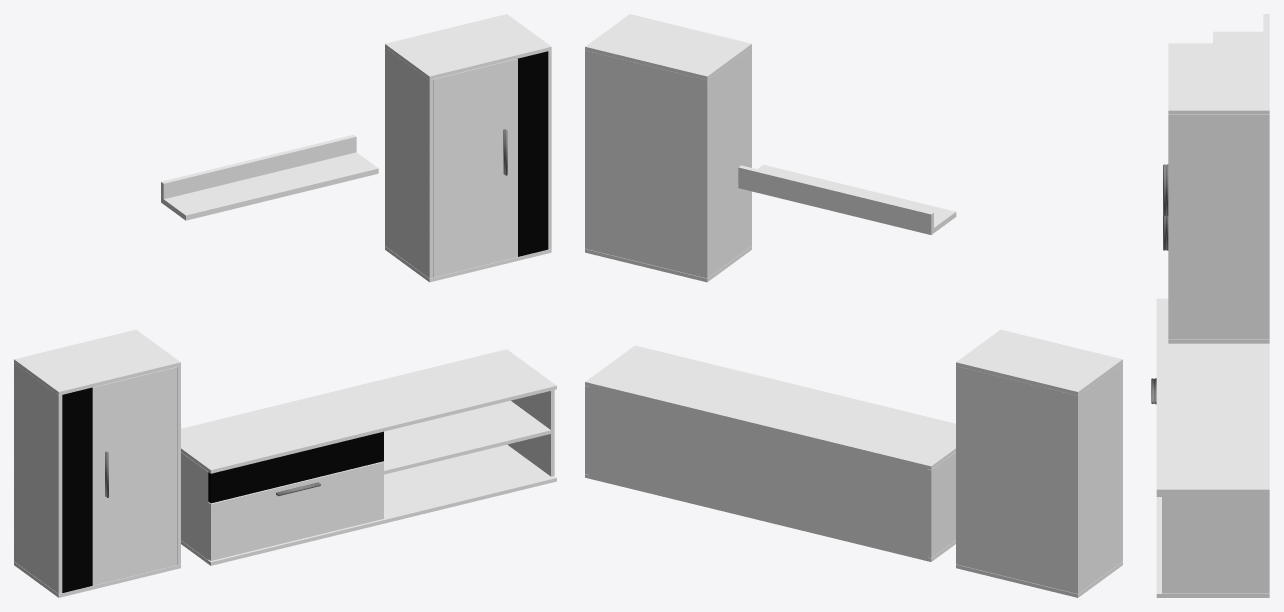
File: kondela_kevin_tv_cabinet_set.glb
3 views of the same model, side by side, from view 1: azimuth 30°, elevation 25°; view 2: azimuth 150°, elevation 25°; view 3: azimuth 270°, elevation 25° (orthographic). The views are drawn at different scales.
Visible parts, largest first — view 1: cabinet_center_Baked_2, cabinet_01_Baked_0, cabinet_02_Baked_1, shelf_Baked_3; view 2: cabinet_center_Baked_2, cabinet_01_Baked_0, cabinet_02_Baked_1, shelf_Baked_3; view 3: cabinet_02_Baked_1, cabinet_center_Baked_2, shelf_Baked_3, cabinet_01_Baked_0.
Boxes of the visible parts, x1,y1,x2,y2 form: cabinet_center_Baked_2: (181, 349, 556, 565); cabinet_01_Baked_0: (14, 329, 180, 597); cabinet_02_Baked_1: (385, 14, 551, 282); shelf_Baked_3: (161, 134, 378, 220); cabinet_center_Baked_2: (585, 345, 955, 561); cabinet_01_Baked_0: (956, 329, 1122, 597); cabinet_02_Baked_1: (585, 14, 751, 282); shelf_Baked_3: (738, 164, 956, 234); cabinet_02_Baked_1: (1163, 43, 1269, 343); cabinet_center_Baked_2: (1151, 298, 1269, 597); shelf_Baked_3: (1213, 14, 1269, 43); cabinet_01_Baked_0: (1163, 215, 1168, 250).
Size of the model in its own units: 1.99 by 1.69 by 0.3664.
Materials: 4 (4 with a texture image).
